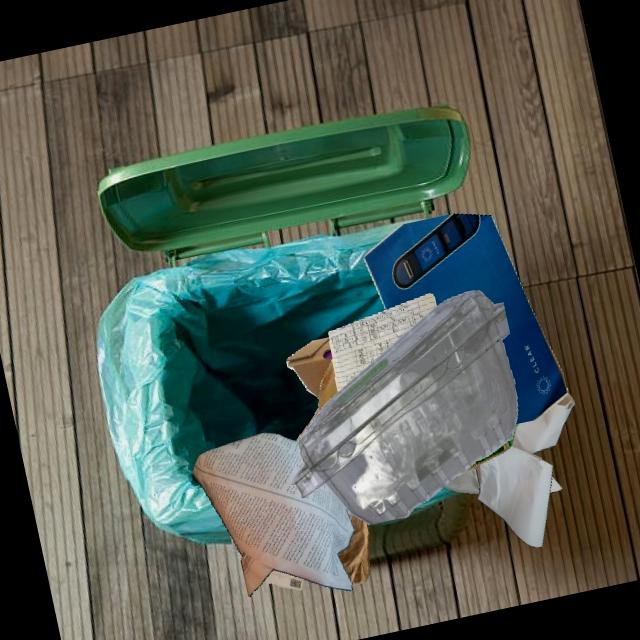biowaste: (317, 359, 337, 412)
cardboard: (286, 336, 332, 398), (337, 513, 369, 584)
paper: (363, 213, 567, 424), (192, 432, 354, 597), (474, 391, 575, 547), (328, 293, 436, 392), (443, 466, 479, 494), (264, 569, 303, 590), (346, 508, 352, 519)
plastic: (290, 290, 517, 524), (466, 423, 518, 470), (230, 534, 239, 552)
